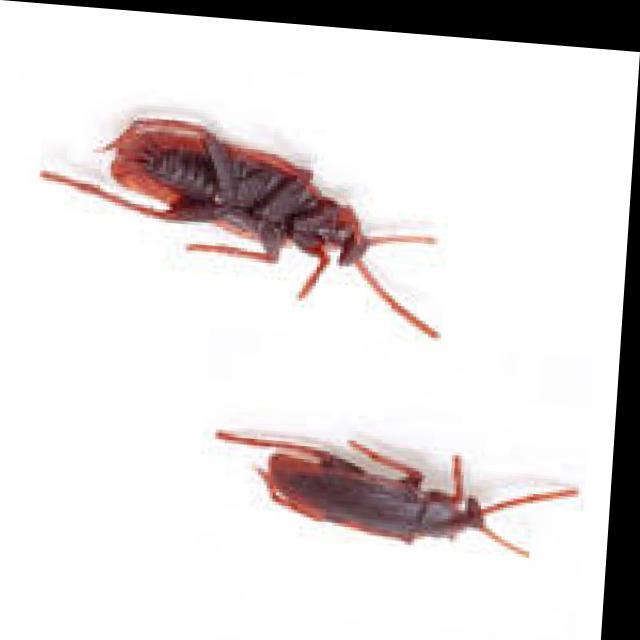Cockroach: (0, 52, 466, 359), (186, 391, 603, 583)
